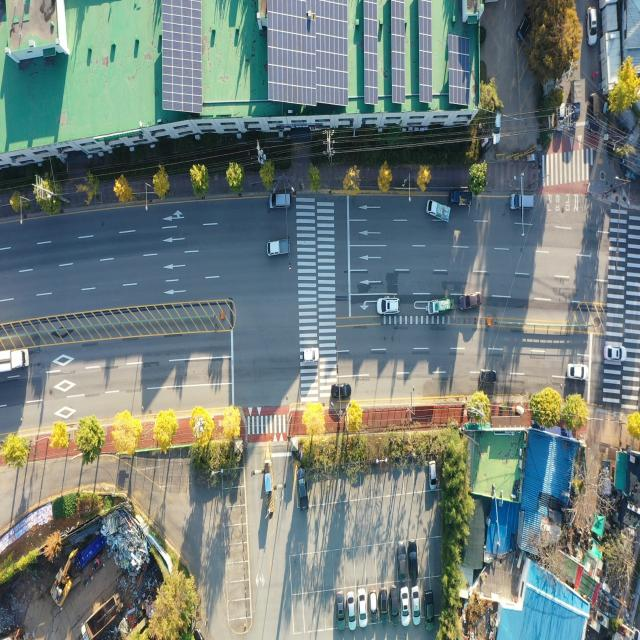car: (516, 10, 535, 40), (509, 195, 533, 213), (410, 540, 420, 582), (390, 586, 400, 627), (378, 299, 401, 316), (587, 7, 597, 46), (588, 94, 598, 132), (567, 362, 588, 380), (271, 194, 293, 211), (297, 467, 307, 504), (603, 346, 626, 362), (425, 589, 434, 629), (458, 292, 479, 309), (358, 589, 367, 628), (413, 586, 422, 624), (400, 588, 409, 626), (338, 592, 347, 630), (397, 542, 406, 580), (332, 382, 352, 399), (380, 590, 390, 622), (493, 111, 502, 144), (348, 592, 356, 629), (301, 348, 319, 364), (368, 591, 377, 623), (479, 371, 498, 386), (430, 458, 438, 488), (558, 104, 566, 130)
medium_truck: (0, 348, 29, 374)
small_truck: (426, 200, 451, 223), (570, 80, 581, 120), (268, 240, 292, 257), (602, 458, 612, 498), (428, 299, 451, 315), (450, 189, 472, 205)
